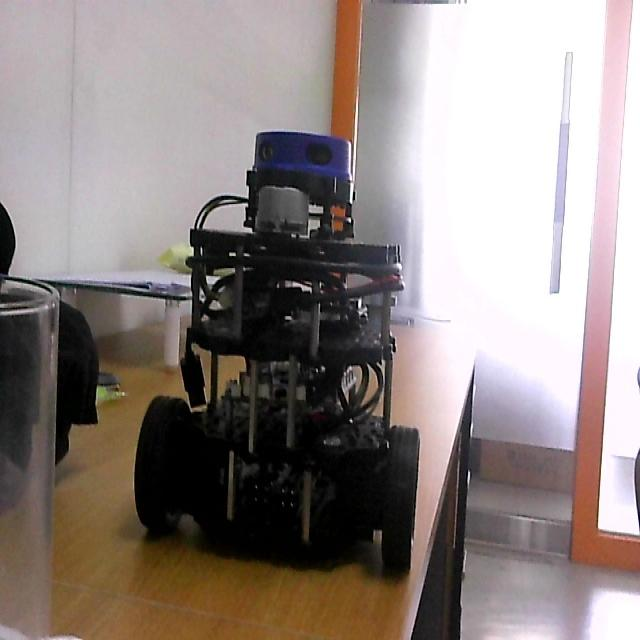turtle: (130, 129, 422, 583)
